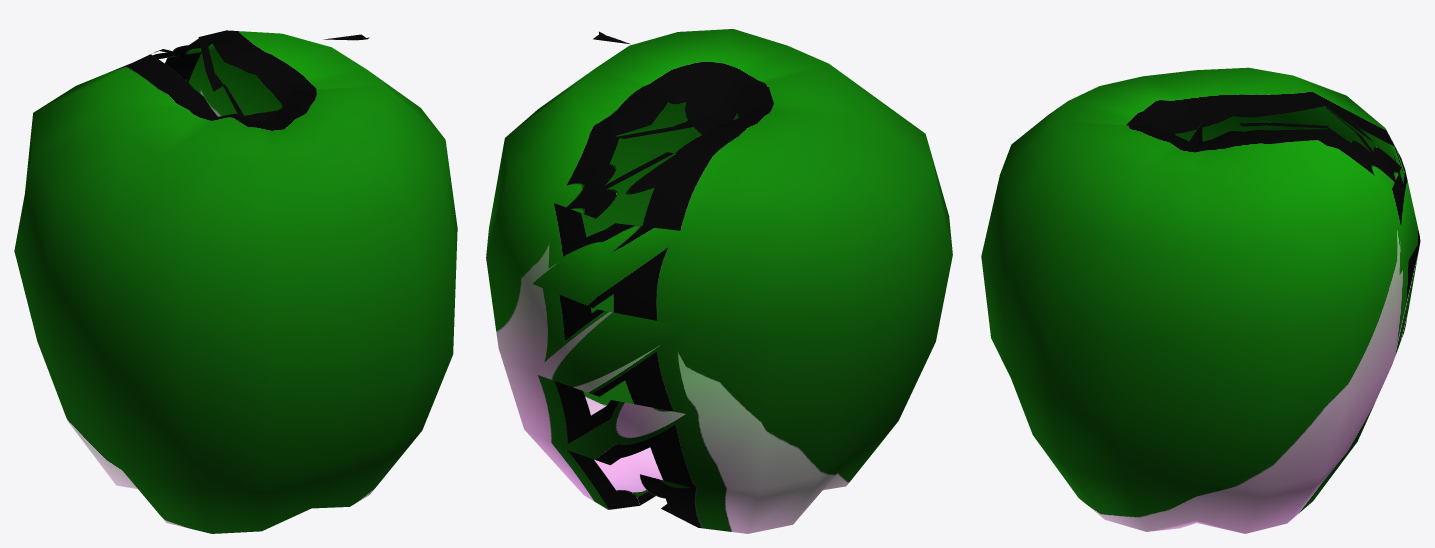
File: appleModel.fbx
3 views of the same model, side by side, from view 1: azimuth 30°, elevation 25°; view 2: azimuth 150°, elevation 25°; view 3: azimuth 270°, elevation 25° (orthographic). The views are drawn at different scales.
Visible parts, largest first — view 1: Plane; view 2: Plane; view 3: Plane.
Part boxes in pixels (left/top/right/bottom): Plane: left=14, top=30, right=457, bottom=533; Plane: left=486, top=29, right=952, bottom=533; Plane: left=981, top=67, right=1420, bottom=533.
Bounding box in the file's own units: 0.1856 × 0.2114 × 0.1887.
